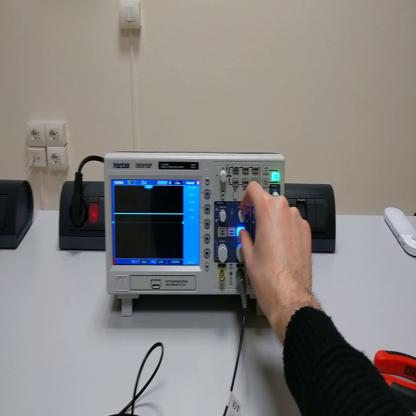hand: (238, 179, 315, 327)
oscilloscope: (107, 151, 288, 318)
pliers: (373, 340, 416, 409)
socket: (59, 178, 108, 255), (2, 175, 36, 253)
